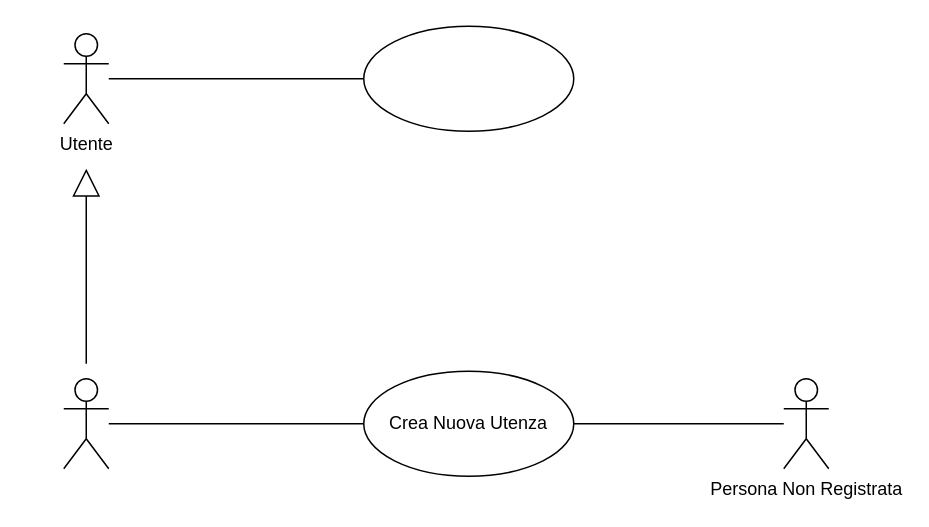
This 929x527 diagram has some shape labels left out. Each missing label, with the box of its shape:
Accedi alla Piattaforma: (362, 25, 574, 131)
Amministratore: (62, 377, 109, 469)
